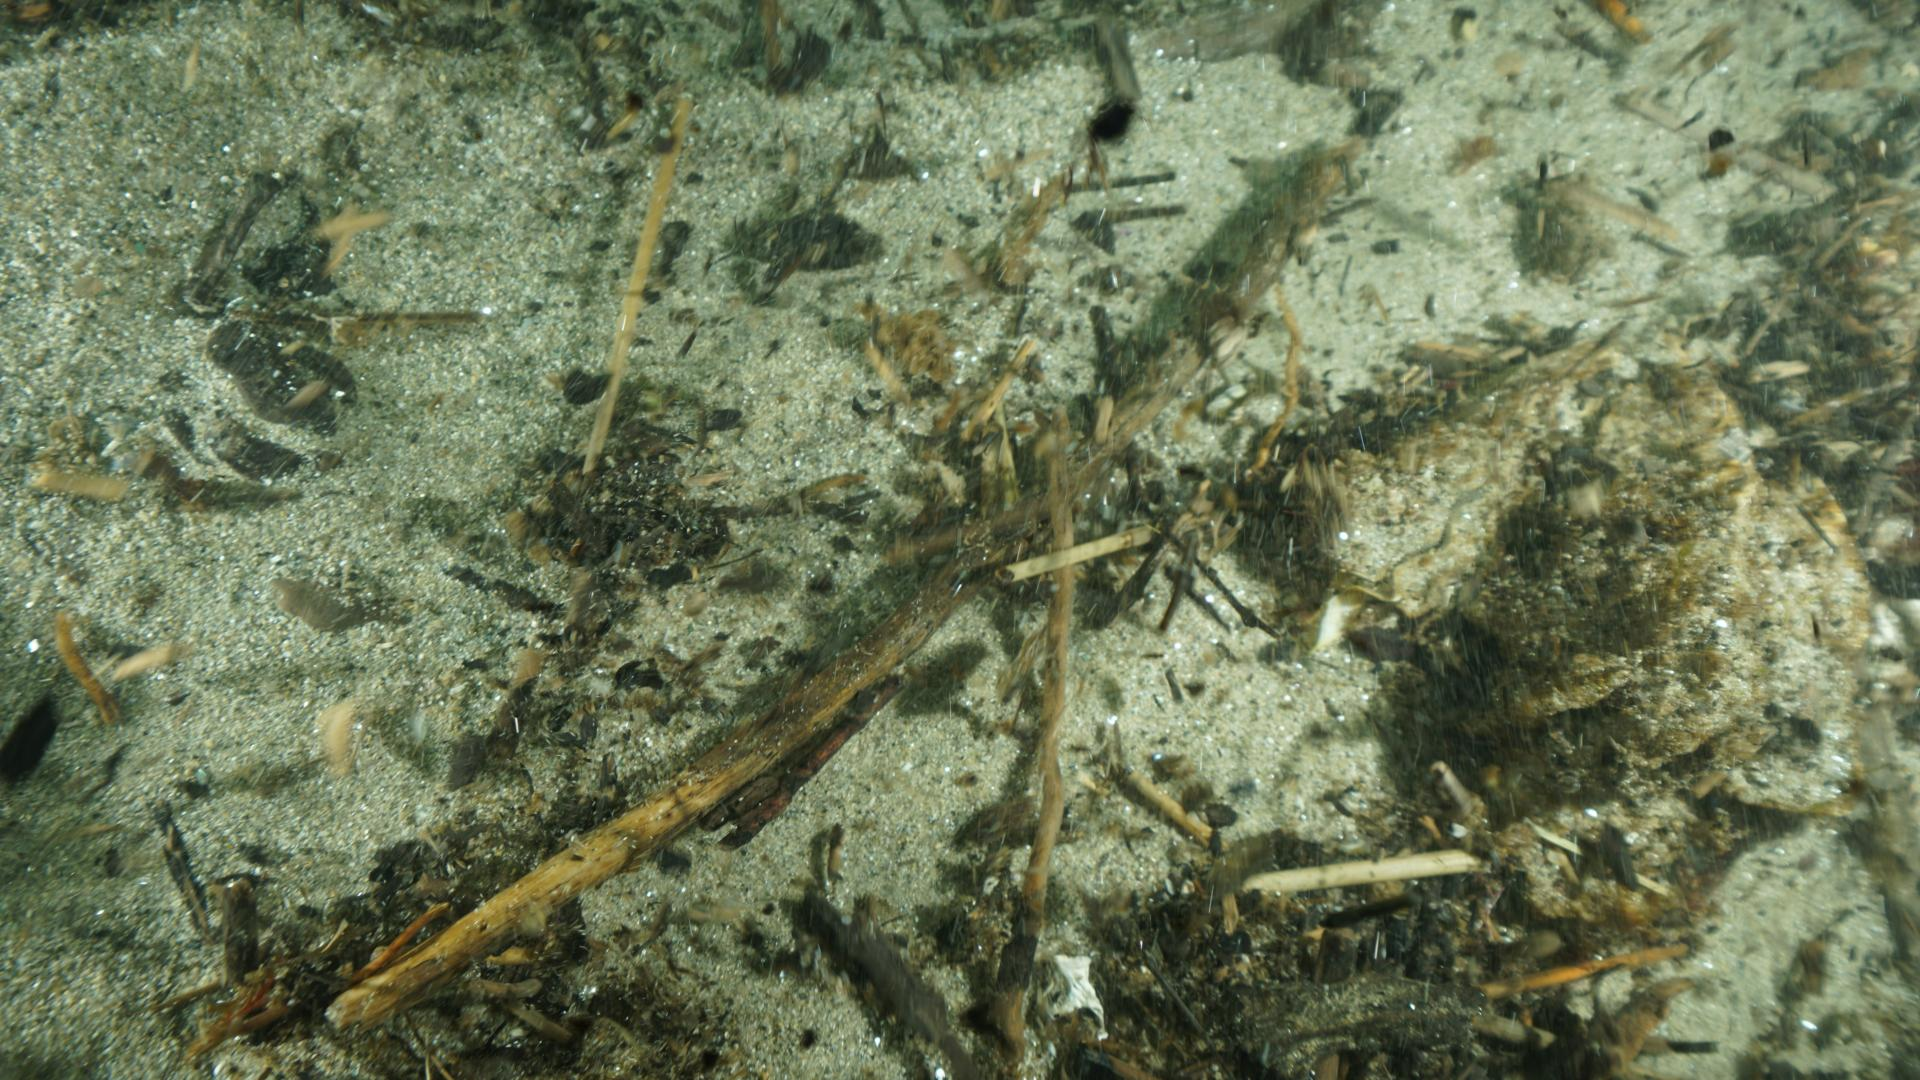wood: (322, 131, 1367, 1035)
